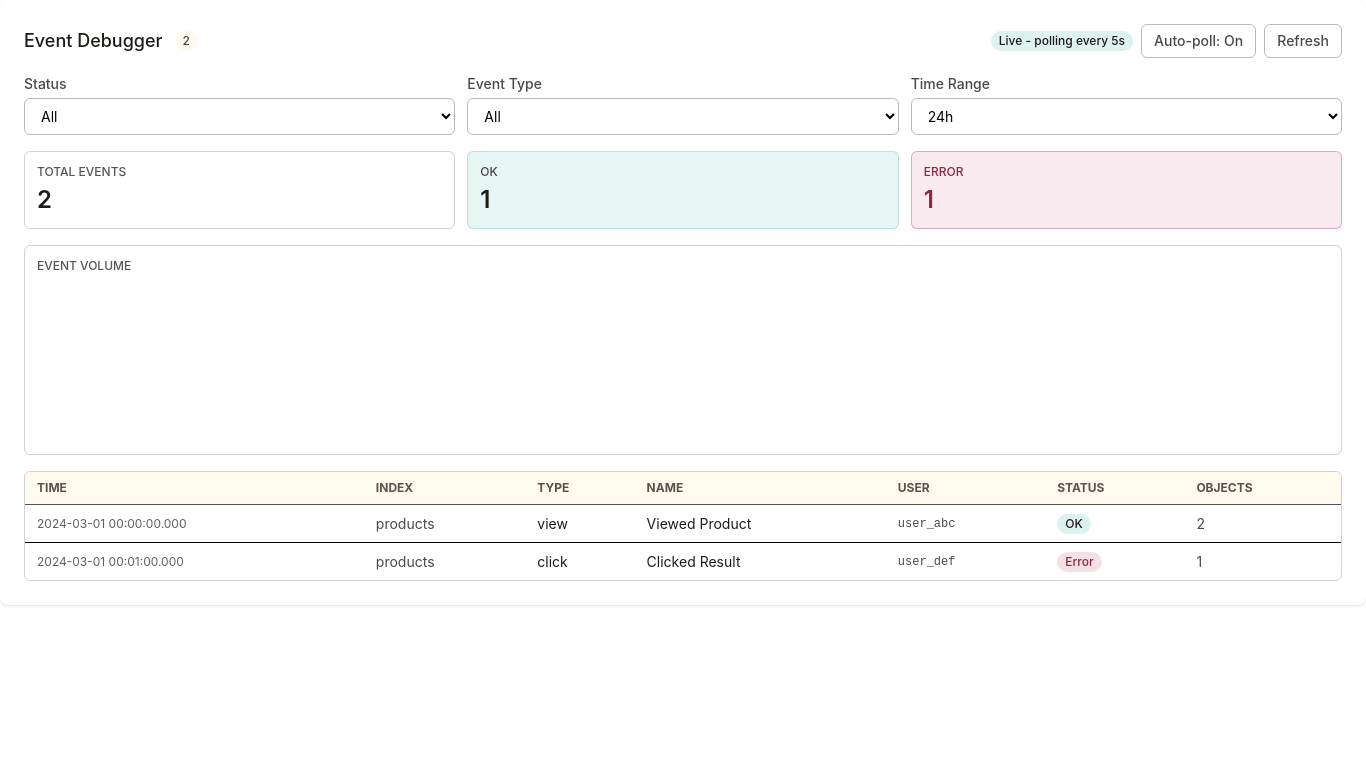
Test: EventsTab › event detail panel › clicking an event row shows Event Detail panel
Click the 2nd row.
click(683, 524)  # box [25,504,1341,542]
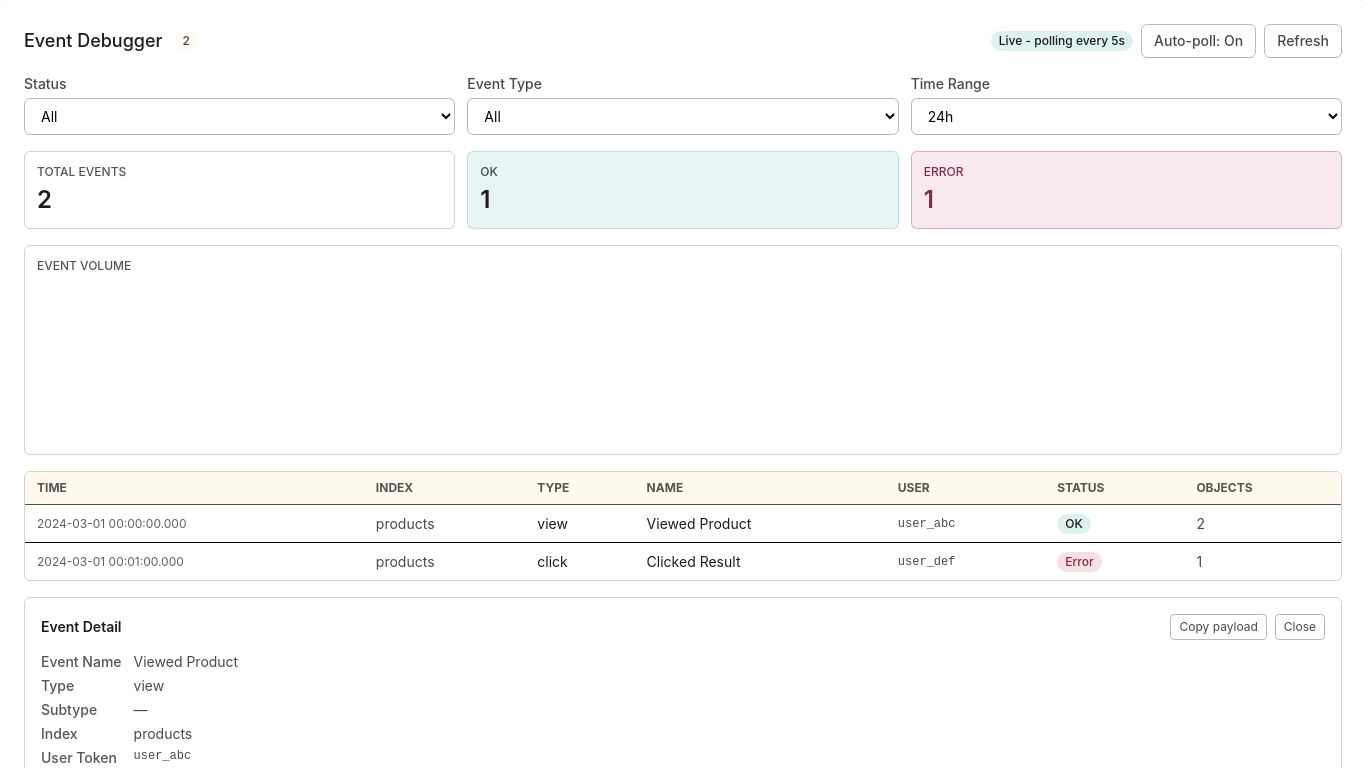
Expected: the heading "Event Detail" is shown, [41,617,122,637]
